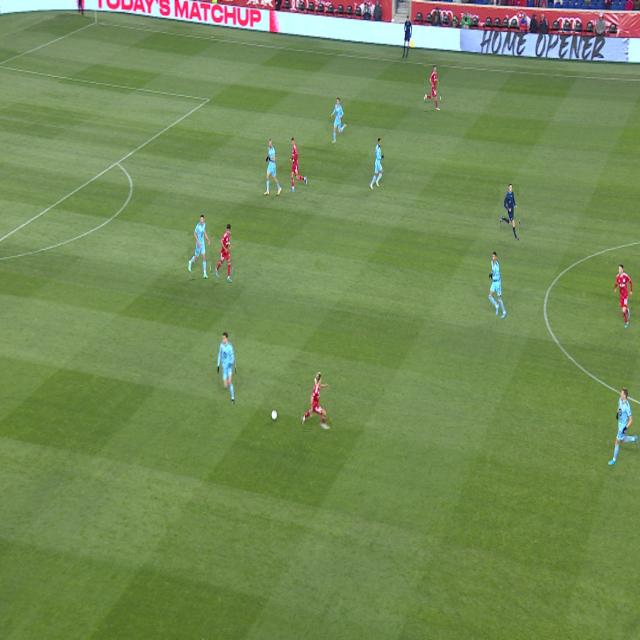football: (271, 410, 278, 422)
player: (608, 388, 638, 465), (302, 373, 330, 430), (189, 215, 210, 279), (218, 332, 235, 405), (488, 251, 506, 319), (615, 264, 633, 328), (264, 139, 282, 196), (289, 138, 307, 192), (216, 224, 232, 283), (369, 139, 384, 190), (331, 97, 347, 144), (425, 65, 440, 111)
referee: (501, 184, 519, 241)
